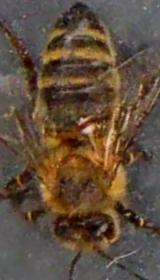varroa_mite: (62, 110, 108, 136)
